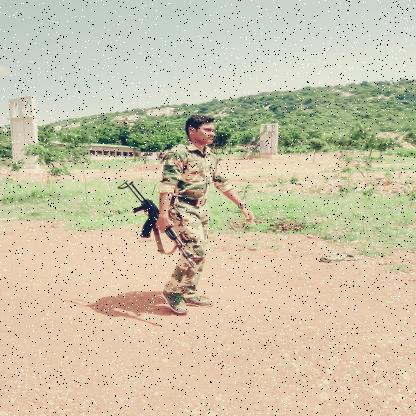rifle: (116, 179, 198, 269)
